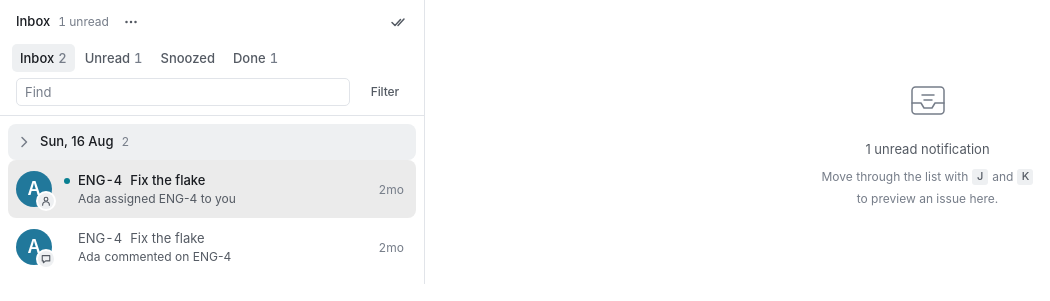
Test case: Inbox leftovers › keeps a read row out of Unread and in Inbox
Expected: the text "assigned ENG-4 to you" is shown, [104, 191, 236, 206]
Expected: the text "commented on ENG-4" is shown, [104, 249, 231, 264]
Click the tab "Unread 1". click: point(114, 58)
box: [77, 44, 150, 72]
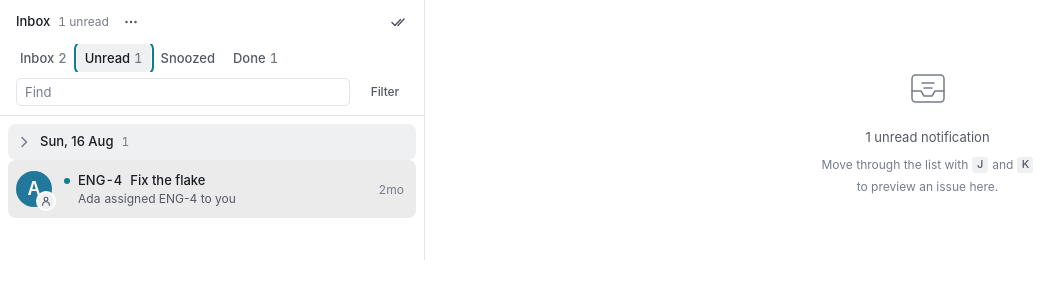
Expected: the text "assigned ENG-4 to you" is shown, [104, 191, 236, 206]
Expected: the option "commented on ENG-4" is gone
